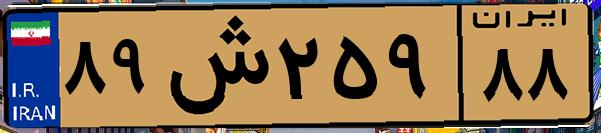2: (270, 28, 330, 110)
5: (330, 28, 385, 110)
8: (57, 26, 110, 100), (475, 38, 525, 113), (525, 38, 570, 115)
9: (385, 28, 445, 110), (110, 28, 158, 98)
ش: (158, 12, 270, 120)
